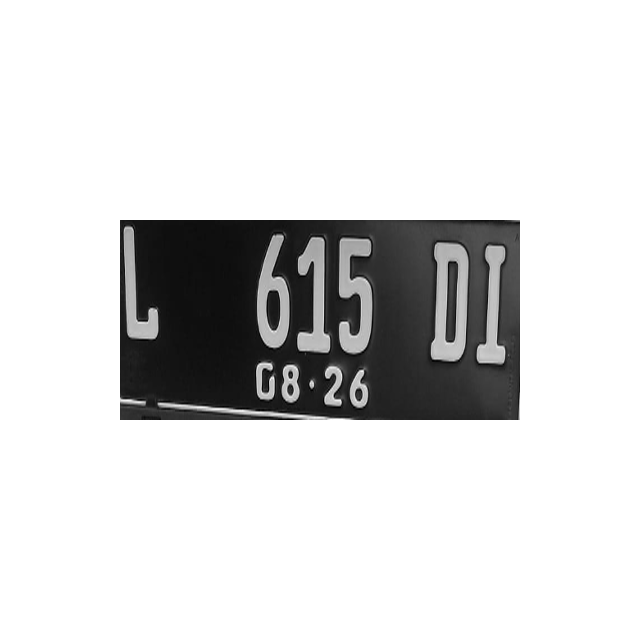contain: (424, 239, 470, 364), (472, 239, 518, 364), (122, 224, 162, 343), (252, 232, 292, 351), (293, 236, 333, 355), (335, 235, 375, 354)
